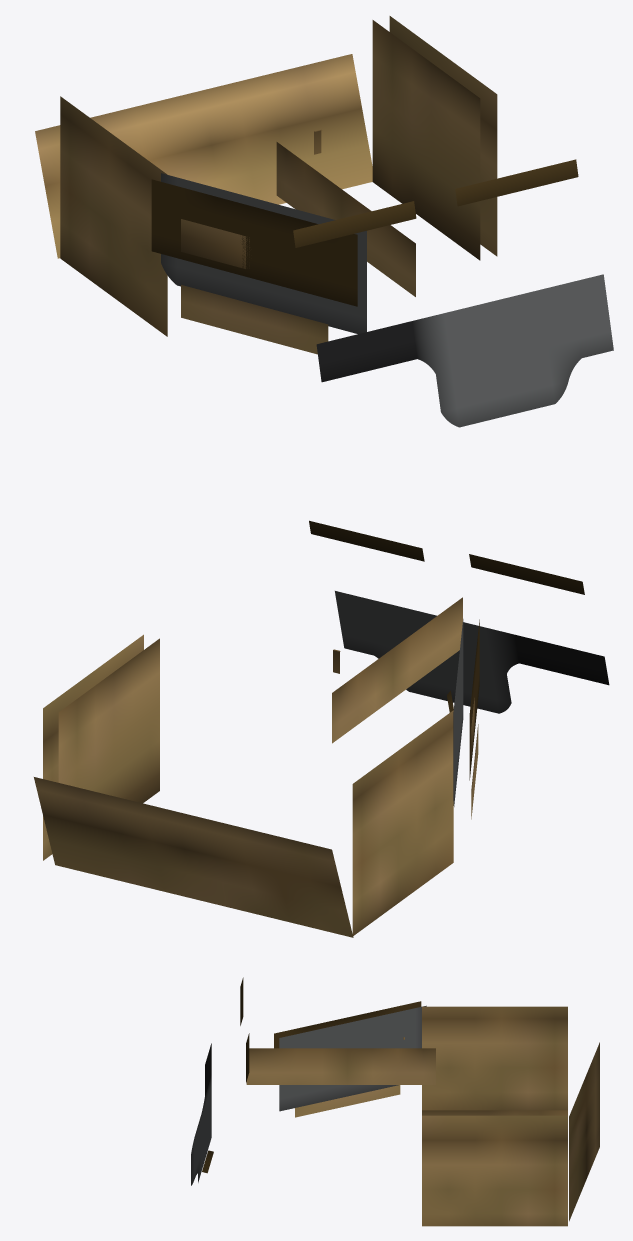
File: hmmwv_m2_turret.obj
3 renders of one model, top to bottom at view 1: azimuth 30°, elevation 25°; view 2: azimuth 150°, elevation 25°; view 3: azimuth 270°, elevation 25°, orthographic. The views are drawn at different scales.
Parts seen in each view (by area): view 1: turret, gun; view 2: turret, gun; view 3: turret, gun.
Boxes of the visible parts, x1,y1,x2,y2 form: turret: [35, 16, 613, 427]; gun: [276, 129, 415, 296]; turret: [34, 520, 609, 937]; gun: [332, 597, 462, 743]; turret: [191, 977, 599, 1226]; gun: [246, 1037, 435, 1084].
Size of the model in its own units: 1.33 by 0.7764 by 2.95.
